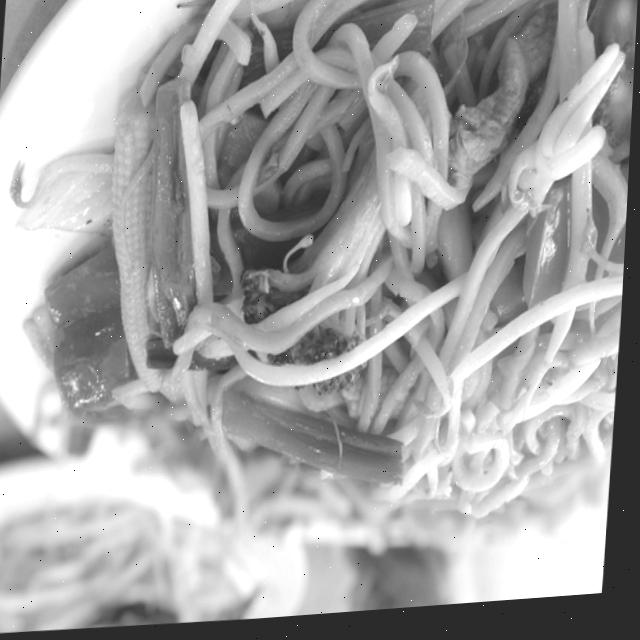面条主食: (0, 0, 640, 604)
